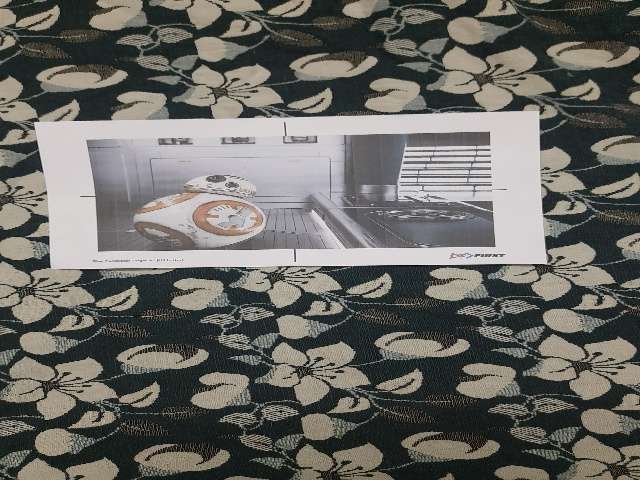bpt1: (58, 130, 548, 263)
